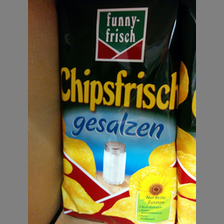chips: (57, 2, 186, 223)
